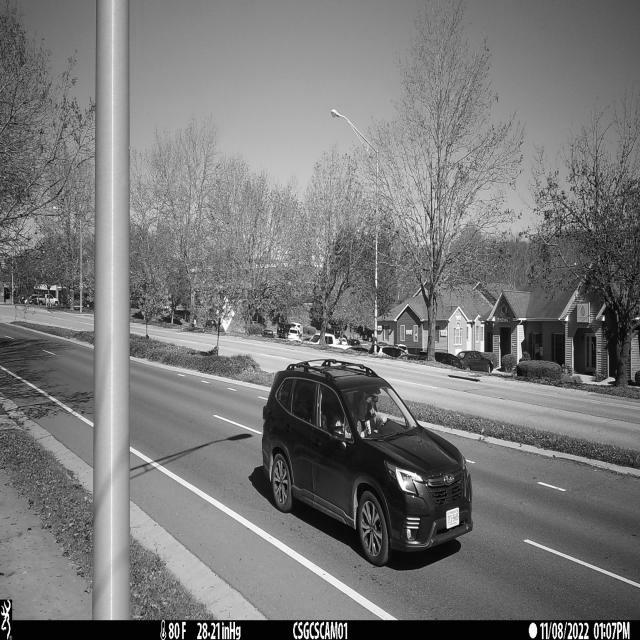SUV: (262, 360, 472, 567)
